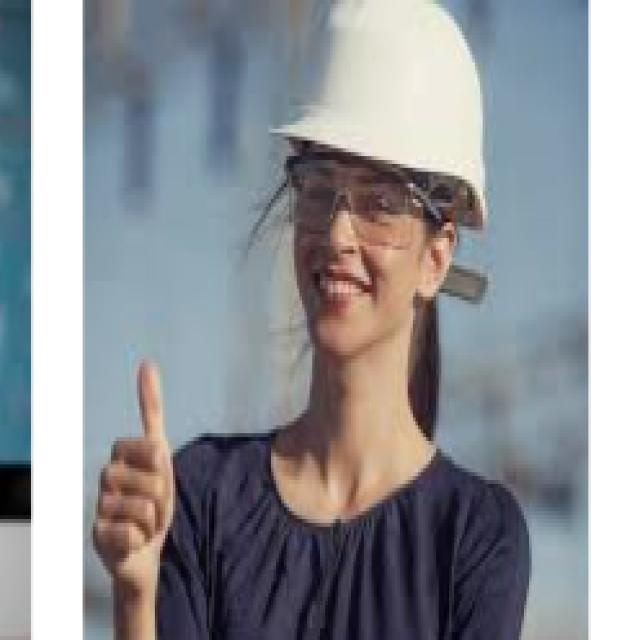glasses: (277, 160, 444, 242)
